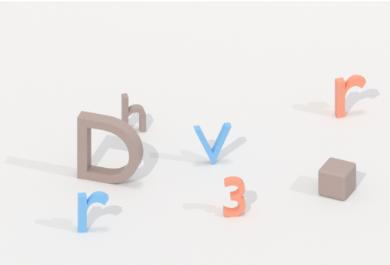0-KhoiVuong: (313, 154, 361, 203)
3: (220, 173, 249, 221)
D: (74, 109, 146, 186)
V: (190, 118, 236, 169)
h: (116, 88, 152, 137)
r: (331, 72, 369, 121), (74, 190, 112, 238)
